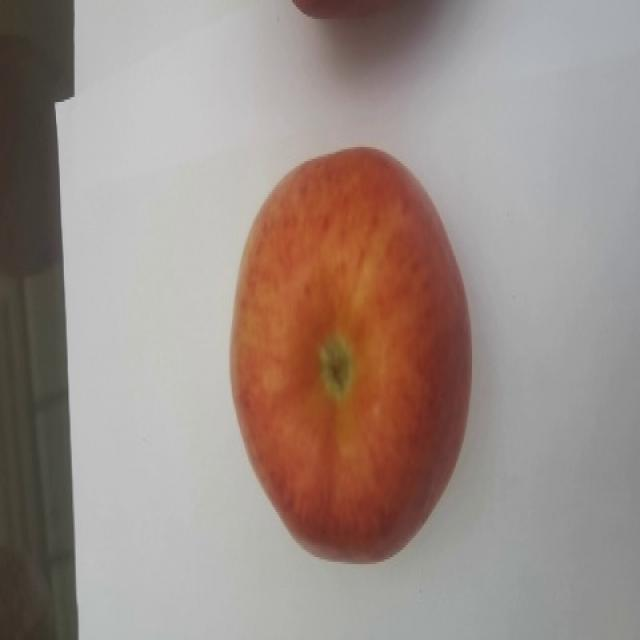Apple: (221, 146, 480, 572)
